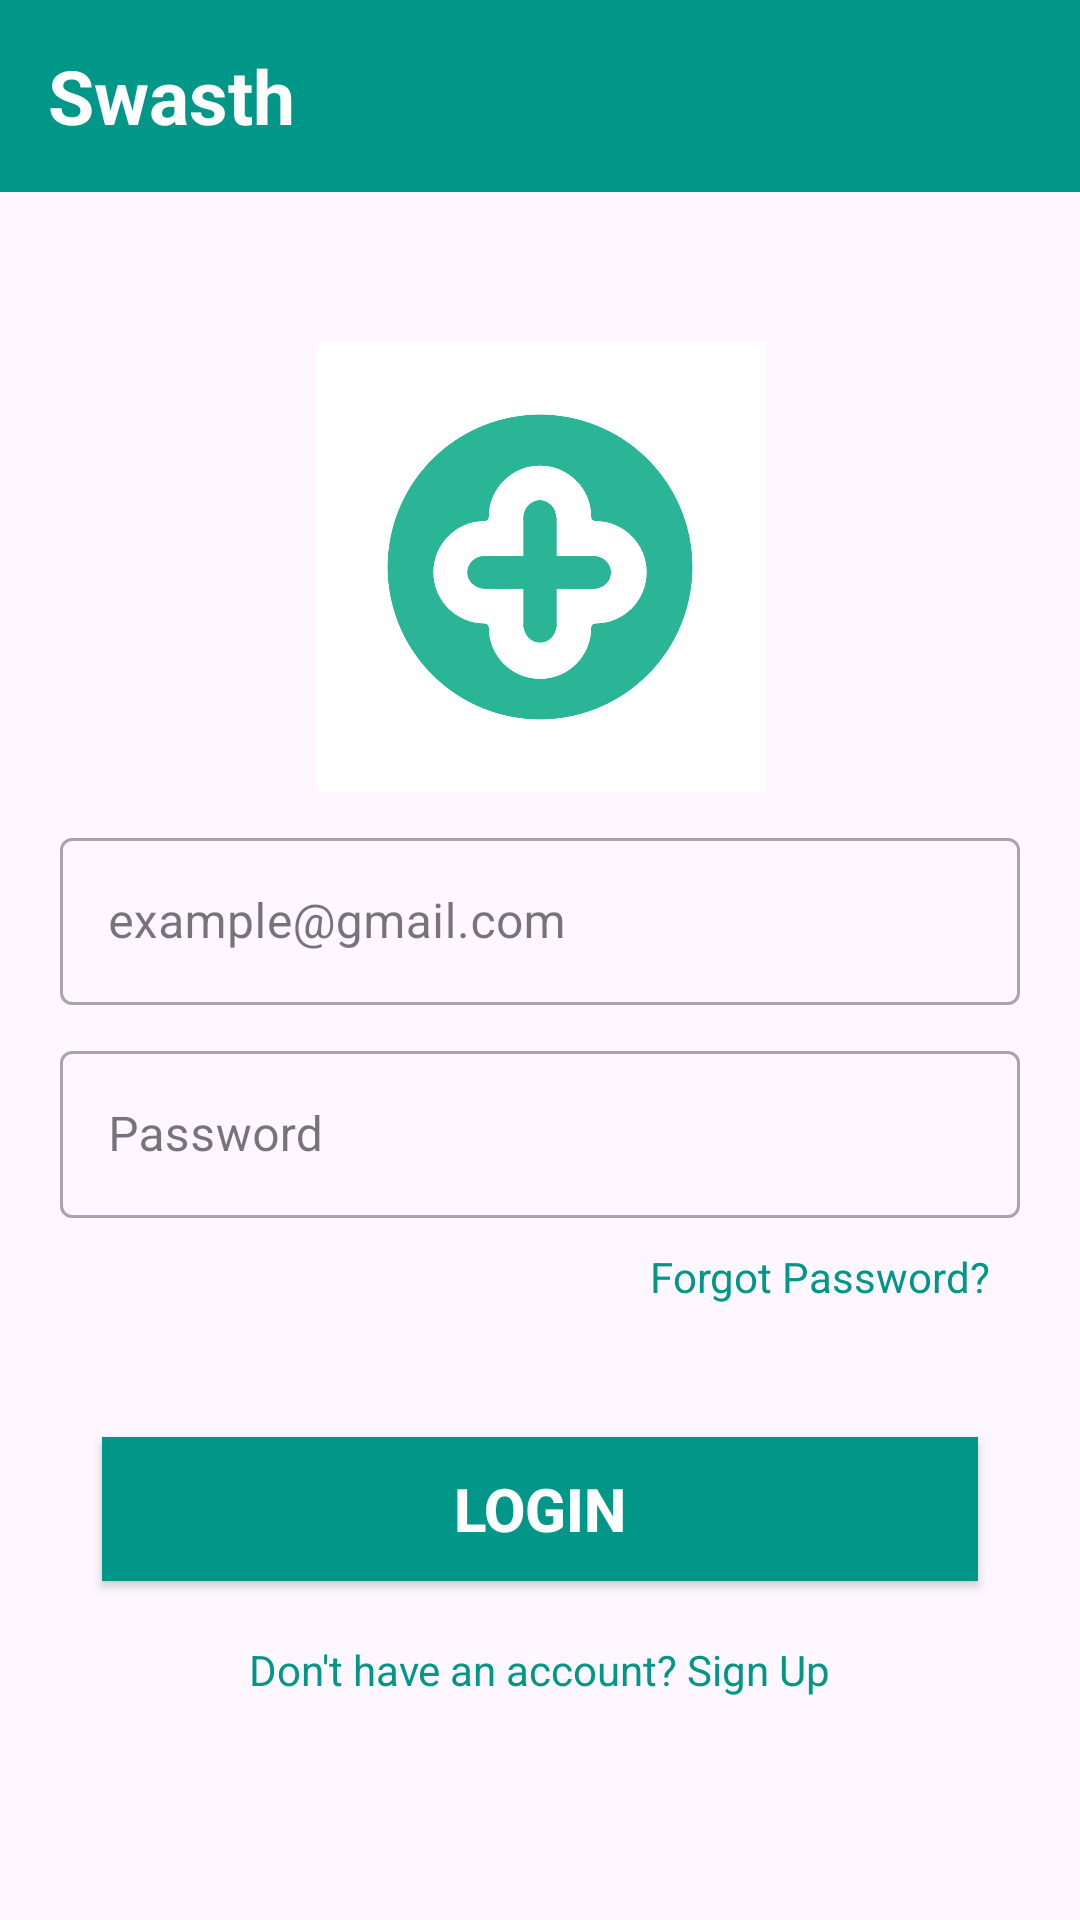

Screen size 1080 x 1920. Icon name, then its box in pixels as (x1, y1, x2, y2):
swasthimg: (387, 414, 693, 720)
